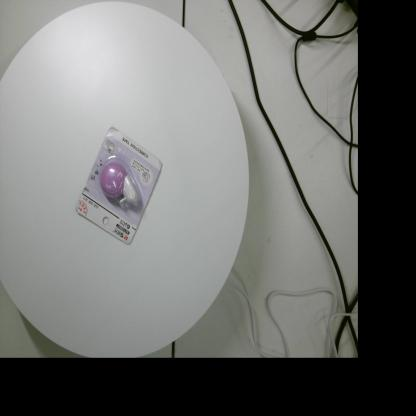Stationery: (76, 127, 162, 245)
